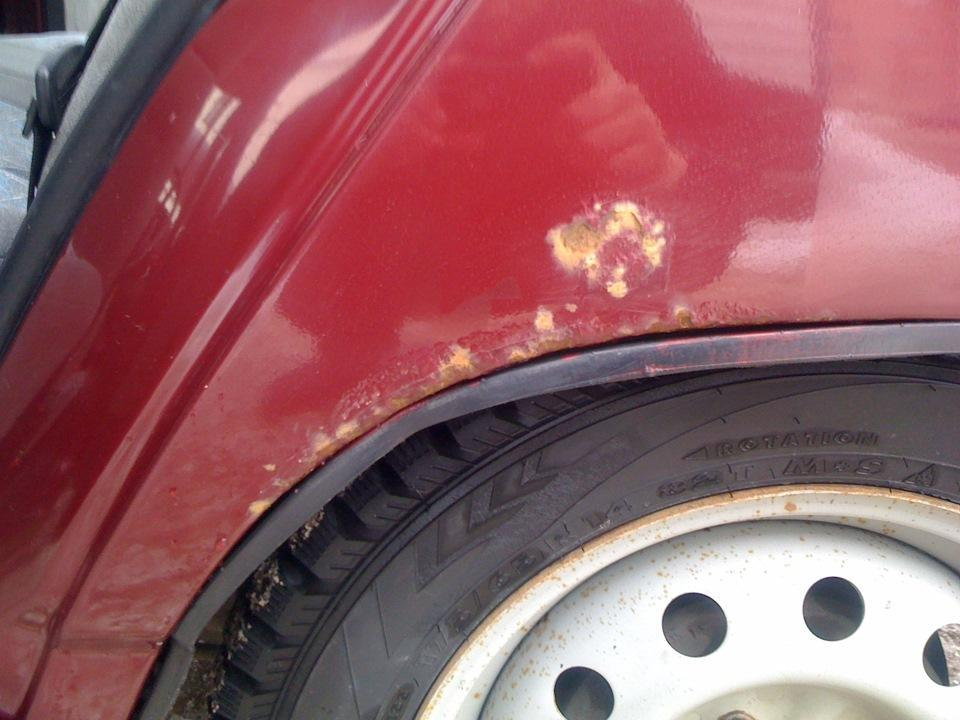corrosion: (530, 195, 687, 303), (295, 364, 404, 459), (428, 328, 557, 383)
